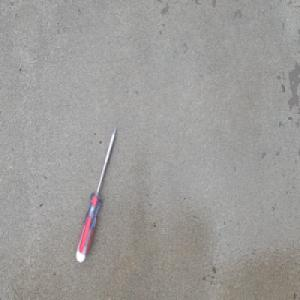Screwdriver: (74, 124, 118, 263)
